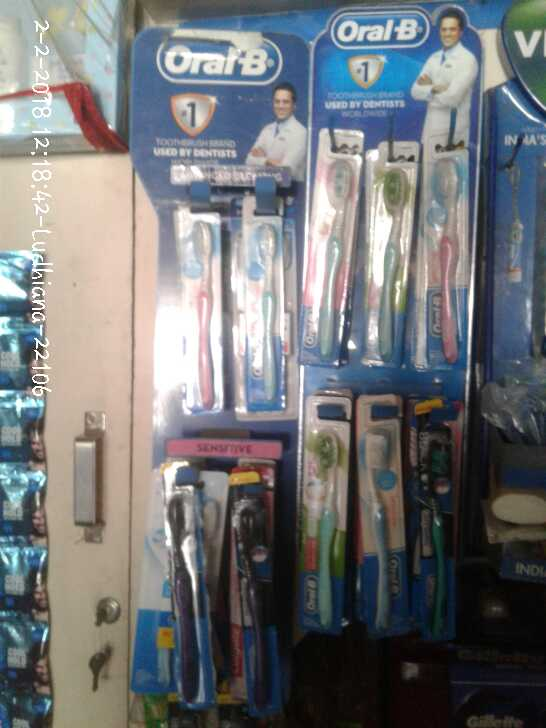oralb: (222, 497, 282, 707), (415, 421, 470, 639), (299, 142, 350, 372), (358, 434, 409, 643), (422, 152, 470, 370), (176, 208, 225, 411), (237, 208, 285, 404), (305, 428, 348, 641), (373, 166, 414, 375), (161, 495, 202, 701)
